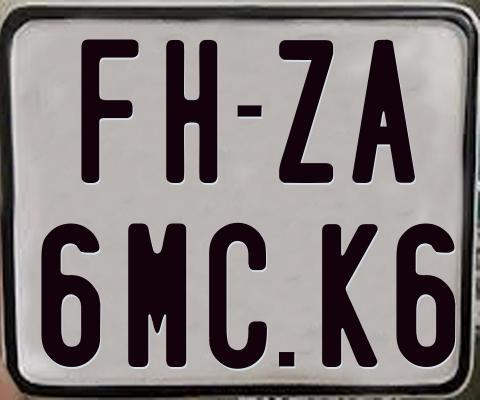6: (393, 221, 452, 368), (39, 220, 98, 364)
A: (349, 39, 417, 186)
C: (209, 220, 273, 368)
F: (78, 38, 139, 185)
H: (163, 37, 219, 183)
K: (320, 223, 380, 369)
M: (127, 223, 186, 369)
Z: (279, 40, 338, 189)
